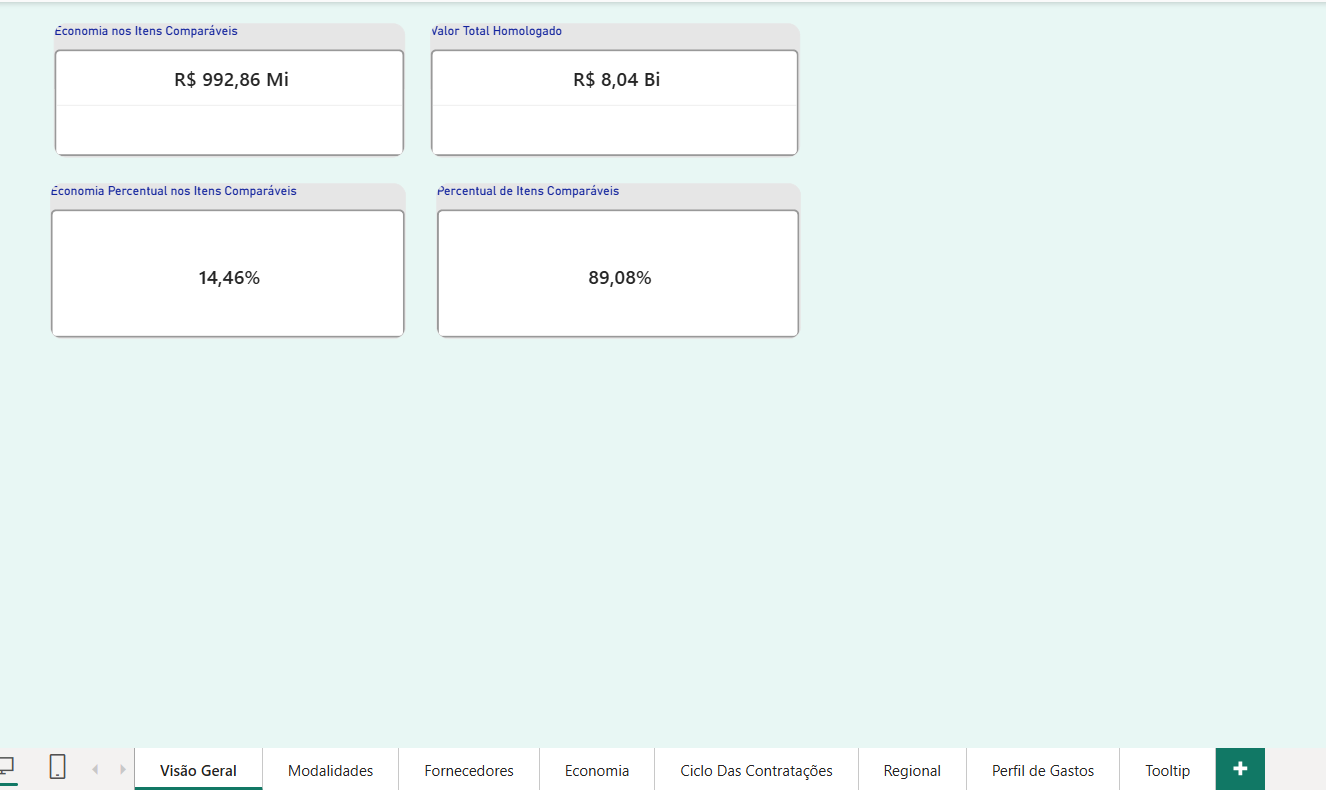

Layout of this report page (visuals, bound fields, positions):
{"tool":"powerbi","page":{"name":"Visão Geral","canvas":[1920,1080],"ordinal":1},"visuals":[{"type":"cardVisual","title":"Economia nos Itens Comparáveis","fields":{"Data":["Medidas.Economia (R$)"]},"box":[78.6,31,509.1,194.5],"z":0},{"type":"cardVisual","title":"Valor Total Homologado","fields":{"Data":["Medidas.Volume Homologado"]},"box":[622.9,31,536,194.5],"z":1000},{"type":"cardVisual","title":"Economia Percentual nos Itens Comparáveis","fields":{"Data":["Medidas.Economia %"]},"box":[72.4,262.8,515.3,225.6],"z":2000},{"type":"cardVisual","title":"Percentual de Itens Comparáveis","fields":{"Data":["Medidas.% de Itens Comparáveis"]},"box":[631.2,262.8,527.7,225.6],"z":3000}]}

Visuals, with their boxes in screenshot pixels (x1, y1, x2, y2):
"Economia nos Itens Comparáveis" cardVisual: region(57, 25, 404, 157)
"Valor Total Homologado" cardVisual: region(428, 25, 793, 157)
"Economia Percentual nos Itens Comparáveis" cardVisual: region(53, 182, 404, 336)
"Percentual de Itens Comparáveis" cardVisual: region(433, 182, 793, 336)
